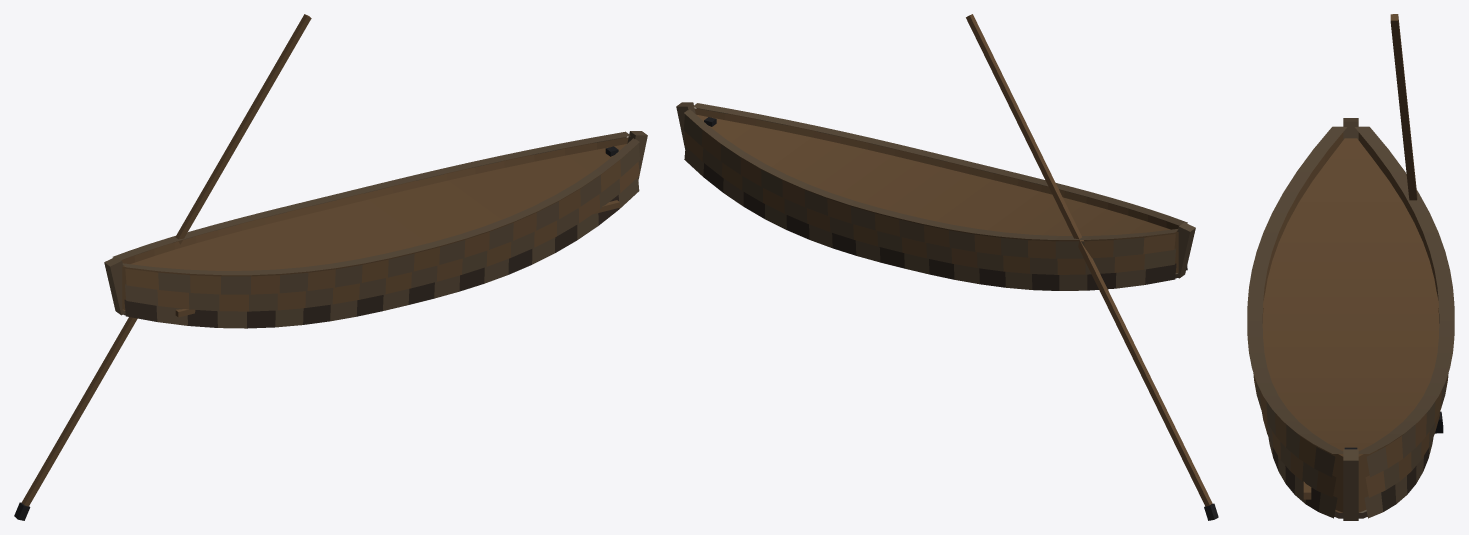
The model's file is wasser_nachen.glb.
3 renders of one model, left to right at view 1: azimuth 30°, elevation 25°; view 2: azimuth 150°, elevation 25°; view 3: azimuth 270°, elevation 25°, orthographic. The views are drawn at different scales.
Parts seen in each view (by area): view 1: Nachen, Verdraenger, Stange; view 2: Nachen, Verdraenger, Stange; view 3: Verdraenger, Nachen, Stange.
Boxes of the visible parts, x1=… form: Nachen: x1=104, y1=131, x2=647, y2=328; Verdraenger: x1=123, y1=144, x2=626, y2=270; Stange: x1=14, y1=14, x2=311, y2=520; Nachen: x1=676, y1=102, x2=1195, y2=290; Verdraenger: x1=696, y1=114, x2=1177, y2=235; Stange: x1=966, y1=14, x2=1218, y2=520; Verdraenger: x1=1262, y1=138, x2=1439, y2=456; Nachen: x1=1247, y1=118, x2=1454, y2=520; Stange: x1=1390, y1=14, x2=1443, y2=433.
Bounding box in the file's own units: 5.8 × 4.2 × 1.34.
